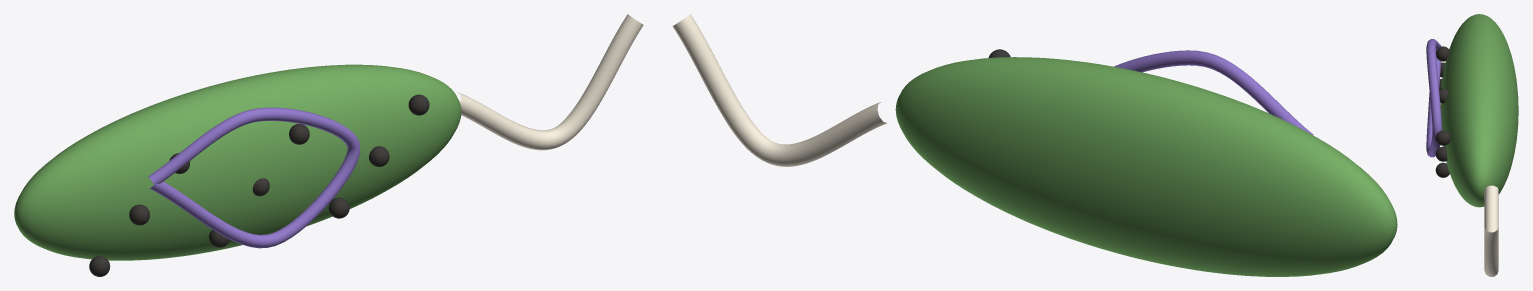
Rendered from bio-p1-bacteria.glb.
3 views of the same model, side by side, from view 1: azimuth 30°, elevation 25°; view 2: azimuth 150°, elevation 25°; view 3: azimuth 270°, elevation 25° (orthographic). The views are drawn at different scales.
Parts seen in each view (by area): view 1: bacterium-capsule-rod, looped-dna-nucleoid, flagellum-swimming-tail; view 2: bacterium-capsule-rod, flagellum-swimming-tail, looped-dna-nucleoid; view 3: bacterium-capsule-rod, looped-dna-nucleoid, flagellum-swimming-tail, ribosome-dot-8, ribosome-dot-6, ribosome-dot-2, ribosome-dot-7, ribosome-dot-5.
Part boxes in pixels (box(x1,y1,x2,y2)): bacterium-capsule-rod: box(14, 64, 461, 260); looped-dna-nucleoid: box(148, 107, 360, 248); flagellum-swimming-tail: box(457, 14, 643, 150); bacterium-capsule-rod: box(895, 57, 1397, 276); flagellum-swimming-tail: box(672, 14, 887, 166); looped-dna-nucleoid: box(1114, 50, 1313, 134); bacterium-capsule-rod: box(1440, 14, 1518, 207); looped-dna-nucleoid: box(1426, 39, 1441, 157); flagellum-swimming-tail: box(1484, 185, 1498, 276); ribosome-dot-8: box(1435, 130, 1450, 145); ribosome-dot-6: box(1435, 162, 1449, 177); ribosome-dot-2: box(1436, 46, 1449, 61); ribosome-dot-7: box(1435, 146, 1447, 161); ribosome-dot-5: box(1439, 88, 1447, 103).
Size of what is drawn, in the model's own units: 1.75 by 0.4242 by 0.3056.
